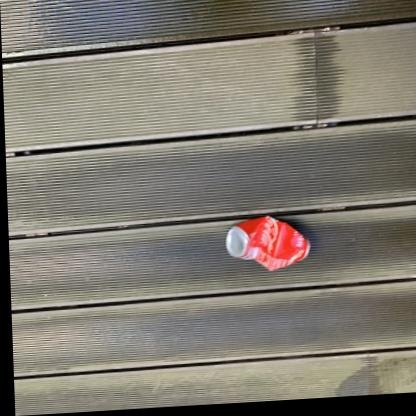trash: (226, 216, 309, 270)
